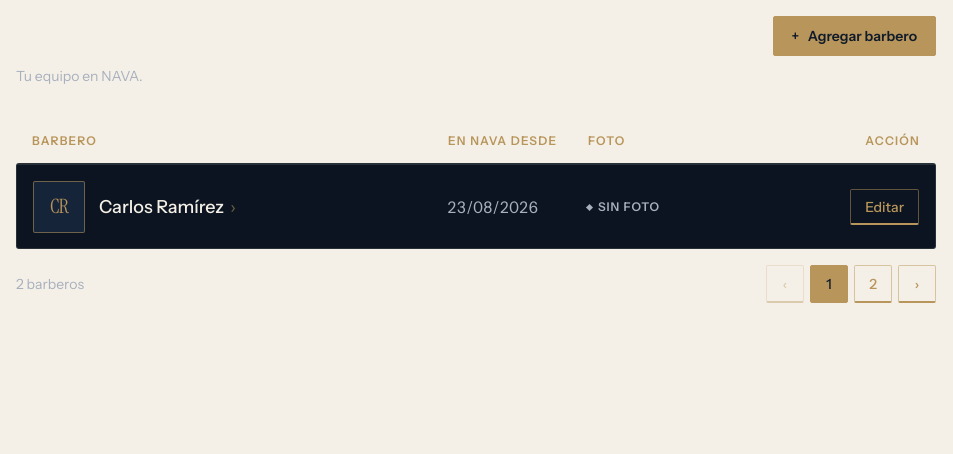
Test: StaffPage › keeps the loaded page on error and retries the failed target page
Click the button named "Página siguiente" at x=917, y=284, box [898,265,936,303]
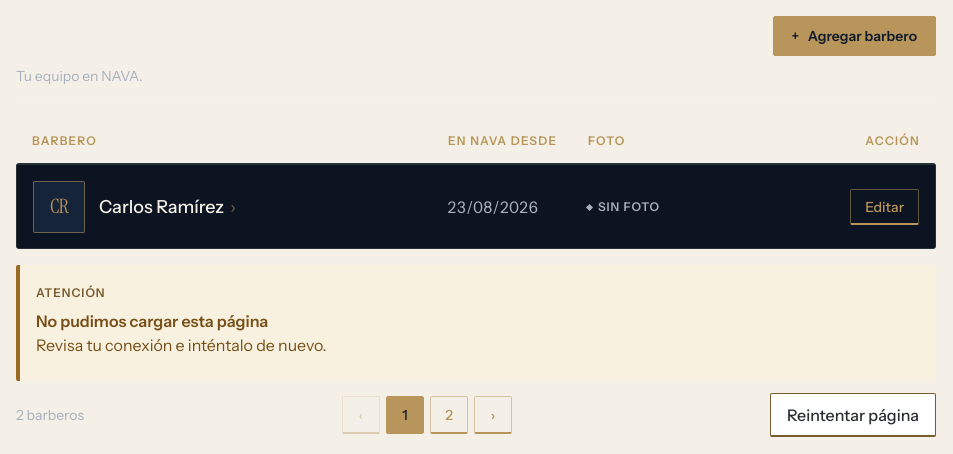
Expected: the text "Carlos Ramírez" is shown, [99,195,224,219]
Expected: the text "No pudimos cargar esta página" is shown, [36,311,268,331]
Click the button "Reintentar página" at x=853, y=415, box [770,393,936,437]
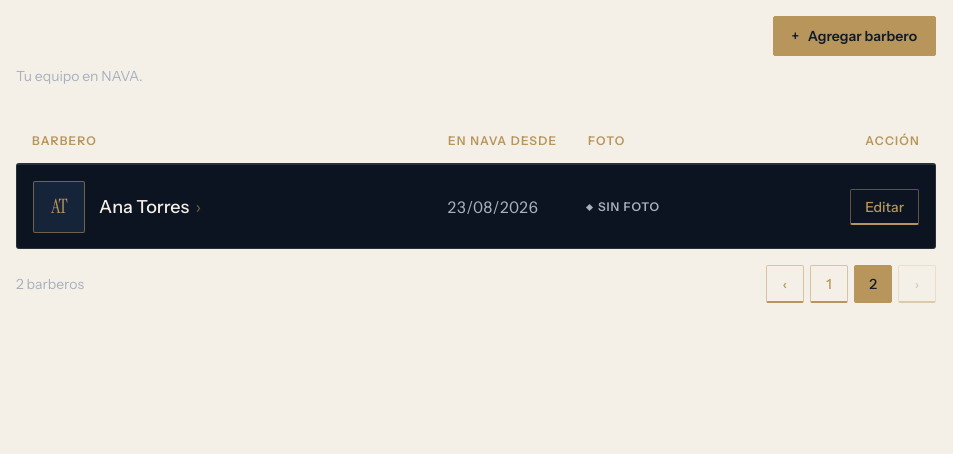
Expected: the text "Ana Torres" is shown, [99,195,189,219]
